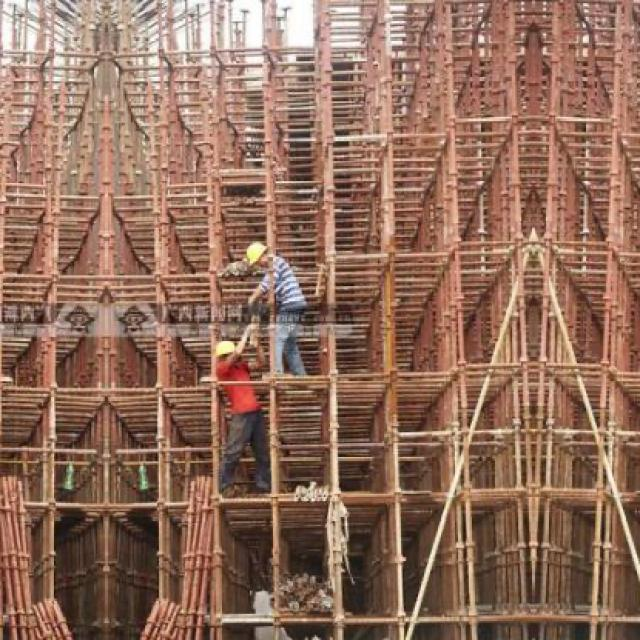helmet: (244, 235, 270, 272), (211, 337, 241, 369)
